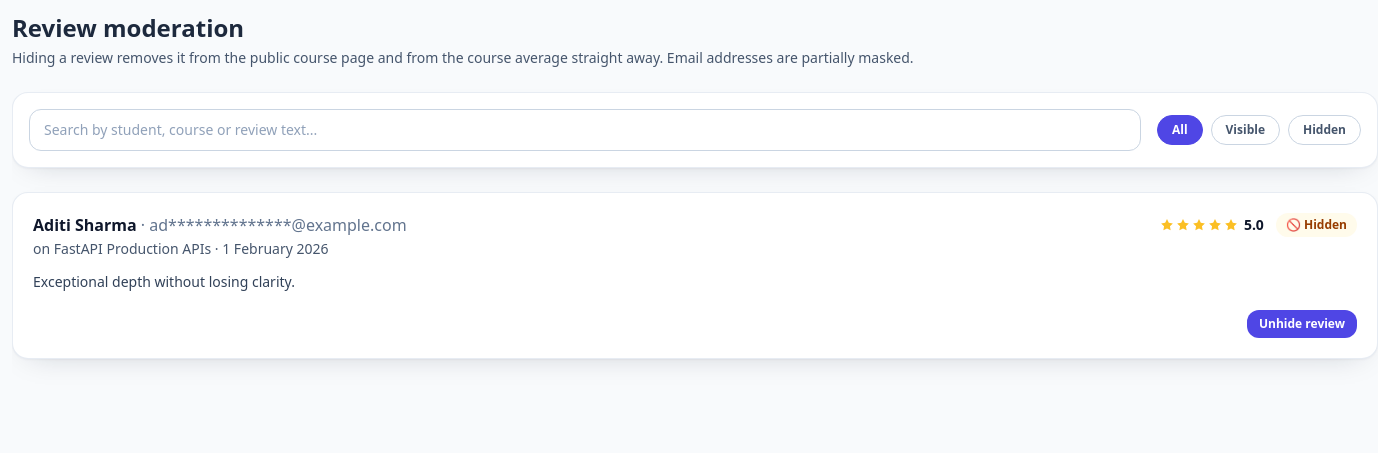
Test case: AdminReviewsPage moderation › unhides a hidden review
The image size is (1378, 453).
Click the button "Unhide review" at (1302, 324), box [1247,310,1357,338]
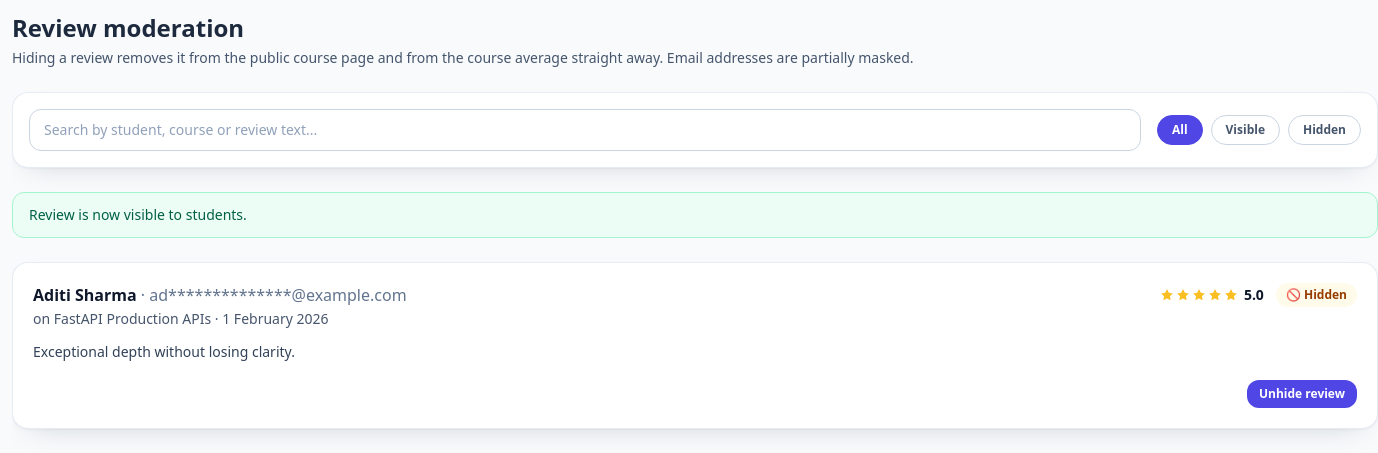
Check: the message shows "now visible to students", box [29,205,247,224]
